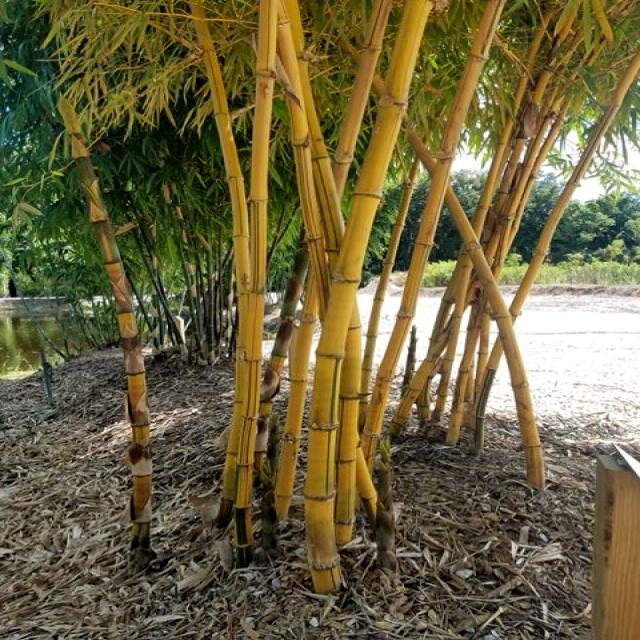Clumping: (57, 0, 601, 601)
